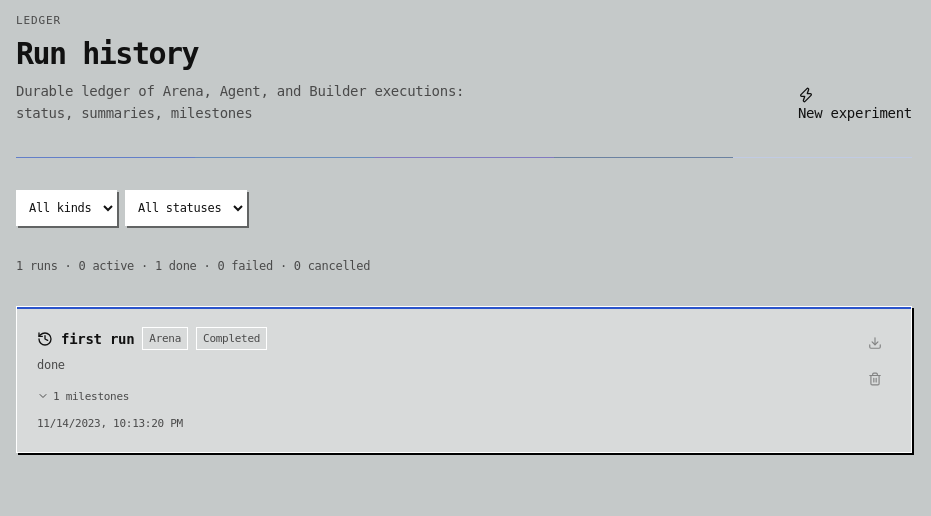
sessions page › lists records with status and expands milestones
The image size is (931, 516).
Expected: the heading "first run" is shown, x1=61 y1=329 x2=134 y2=349
Click the button "1 milestones": (83,396) x1=37 y1=388 x2=129 y2=405
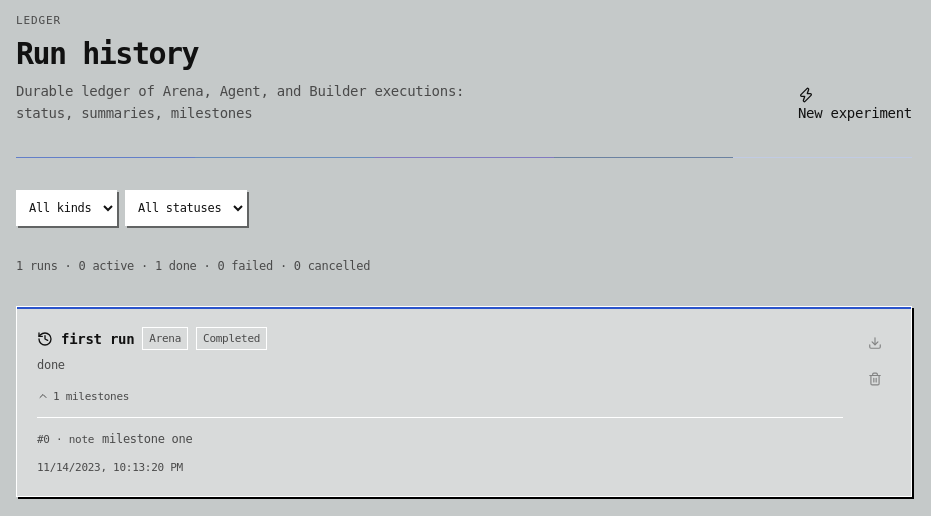
Now the list item "milestone one" is shown, box x1=102 y1=432 x2=192 y2=446
